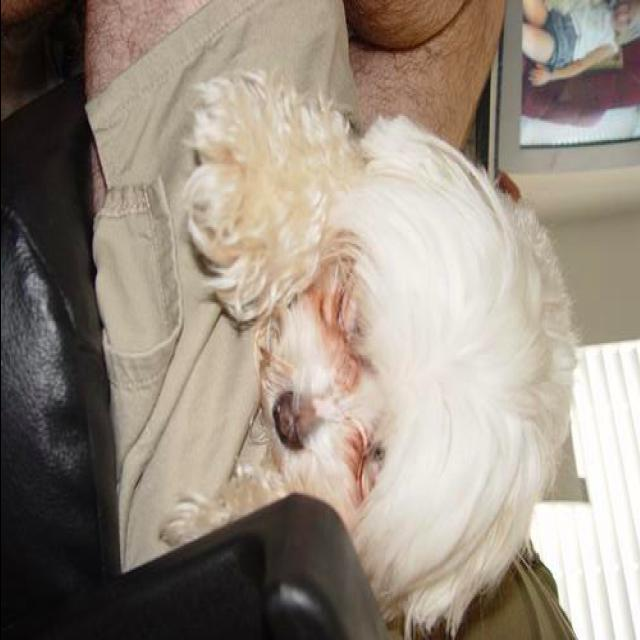maltese_dog: (159, 65, 580, 633)
